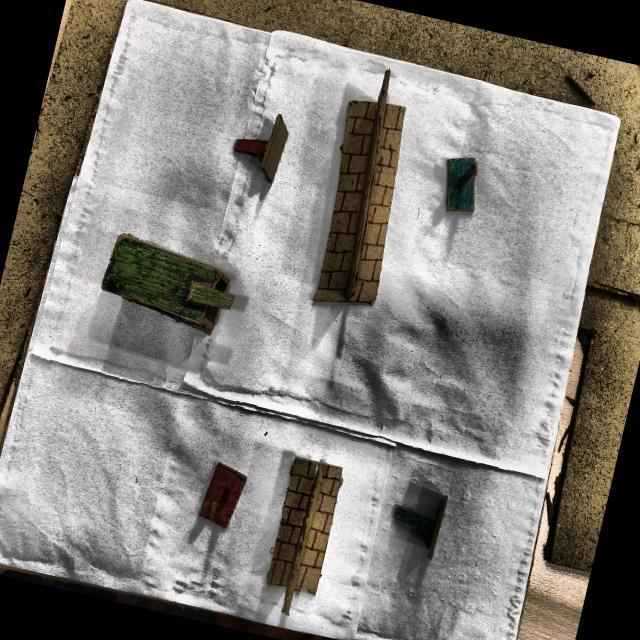Dead soldier -enemy-: (231, 113, 289, 188)
Dead soldier -frd-: (379, 480, 448, 577)
Tank: (98, 234, 236, 338)
Wall: (311, 71, 407, 308), (264, 457, 344, 615)
enemy: (188, 458, 246, 549)
friend: (440, 155, 481, 221)
